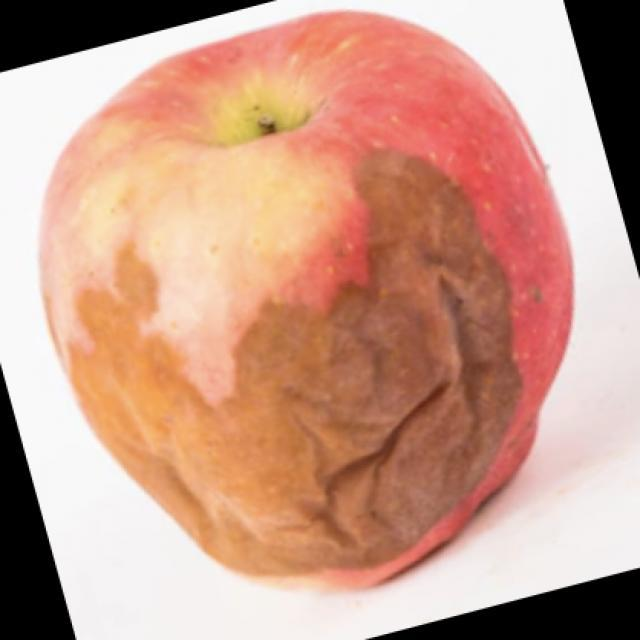Rotten: (52, 35, 565, 563)
